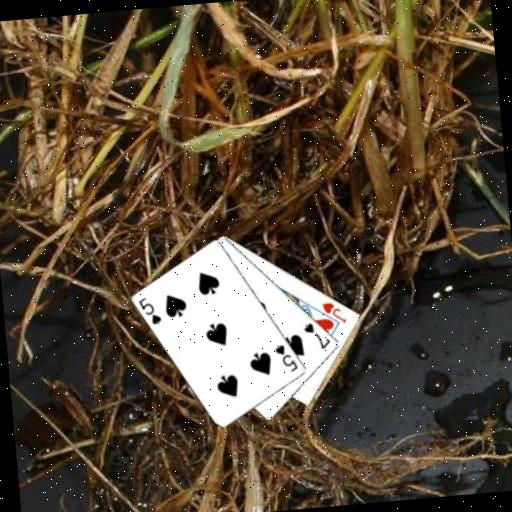5S: (272, 341, 300, 376), (136, 293, 164, 328)
7S: (300, 319, 333, 353)
JH: (319, 298, 348, 327)
